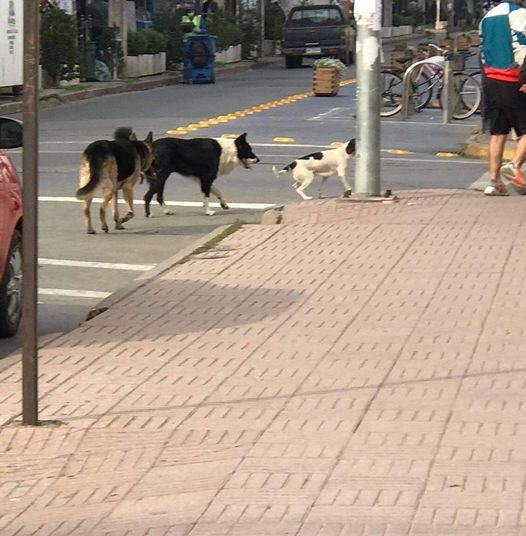dog: (147, 126, 268, 222), (65, 118, 156, 241), (271, 138, 355, 206)
